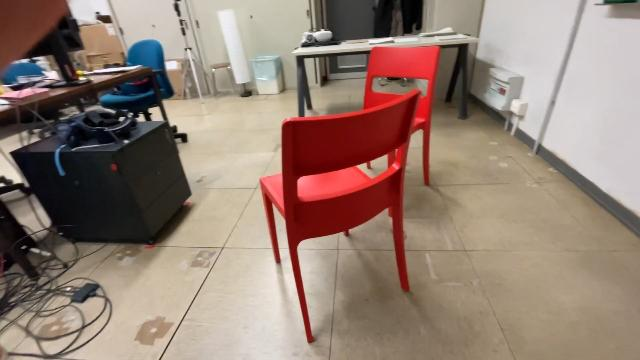Chair: (256, 84, 427, 347), (343, 42, 443, 222)
Lamp: (215, 6, 258, 100)
Stool: (210, 60, 238, 102)
